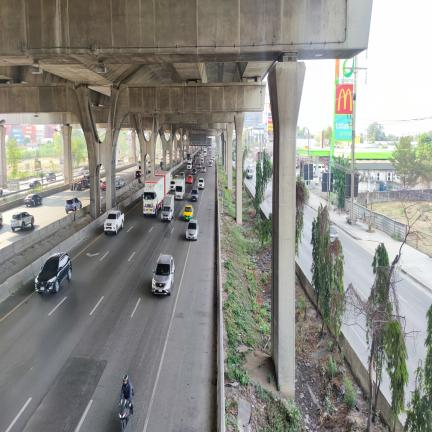car: (35, 253, 72, 292), (35, 253, 71, 292), (152, 255, 175, 295), (152, 255, 174, 295), (11, 212, 34, 231), (65, 197, 82, 214), (65, 198, 82, 213), (24, 194, 42, 207), (187, 220, 198, 240), (25, 194, 42, 206), (330, 226, 339, 242), (191, 188, 199, 202), (331, 226, 338, 242), (191, 188, 199, 201), (116, 178, 125, 189), (29, 180, 41, 188), (46, 172, 56, 181), (116, 178, 124, 188), (46, 172, 56, 180), (170, 179, 176, 192), (198, 178, 205, 189), (30, 180, 41, 187), (198, 178, 204, 188), (135, 170, 141, 179), (78, 167, 84, 175), (187, 175, 193, 183), (101, 181, 106, 190), (0, 212, 3, 227), (100, 179, 104, 189), (173, 174, 179, 180), (179, 172, 185, 178), (192, 168, 197, 175), (197, 163, 202, 169), (202, 166, 206, 173), (0, 212, 2, 226), (100, 180, 103, 189), (180, 172, 185, 177), (192, 169, 196, 174), (202, 166, 205, 172)
human: (119, 375, 133, 413)
motorbike: (119, 398, 131, 432)
pickup: (104, 210, 124, 234), (104, 211, 124, 233)
taxi: (183, 205, 194, 220), (183, 205, 193, 220), (173, 174, 179, 180), (173, 175, 178, 179)
truck: (161, 194, 174, 222), (69, 177, 89, 191), (70, 177, 89, 190), (175, 176, 185, 200), (84, 166, 89, 177)
truck trailer: (142, 176, 165, 216), (155, 171, 172, 195)
van: (170, 179, 176, 191), (187, 160, 192, 169), (187, 161, 192, 169)
